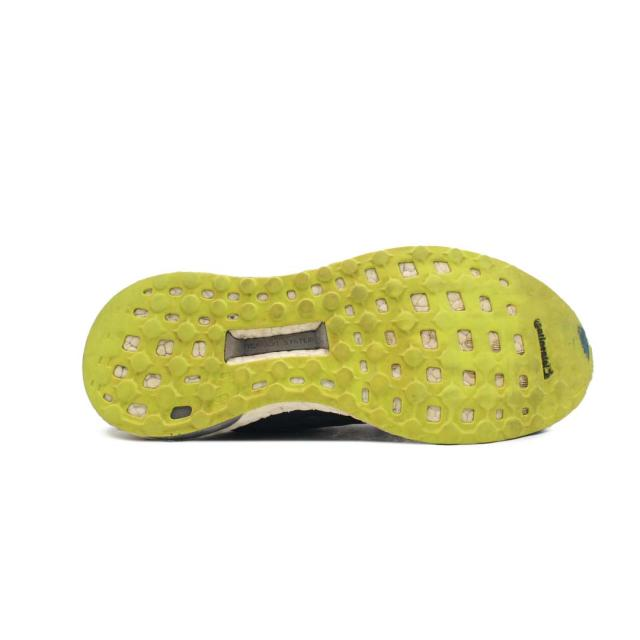outersole: (86, 242, 592, 446)
